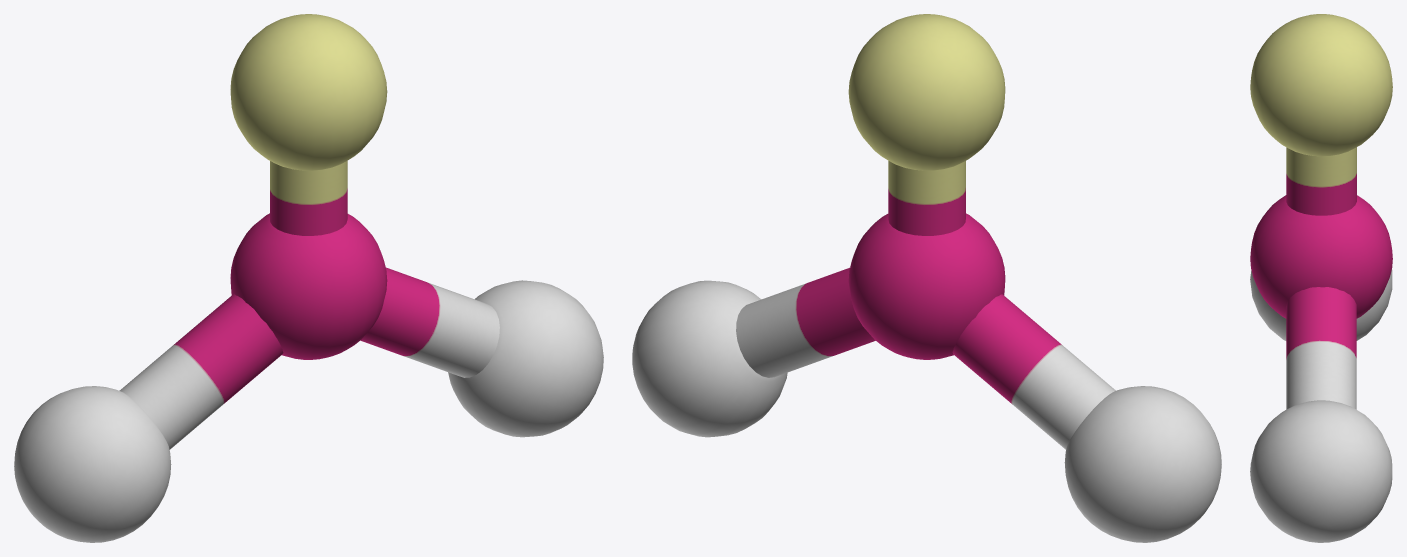
3 views of the same model, side by side, from view 1: azimuth 30°, elevation 25°; view 2: azimuth 150°, elevation 25°; view 3: azimuth 270°, elevation 25° (orthographic). The views are drawn at different scales.
Visible parts, largest first — view 1: AngularBent1Bond; view 2: AngularBent1Bond; view 3: AngularBent1Bond.
Part boxes in pixels (x1,y1,x2,y2): AngularBent1Bond: (14, 14, 603, 542); AngularBent1Bond: (632, 14, 1221, 542); AngularBent1Bond: (1250, 14, 1392, 542).
Size of the model in its own units: 85.5 by 66.32 by 20.46.
1 material, 1 textured.
